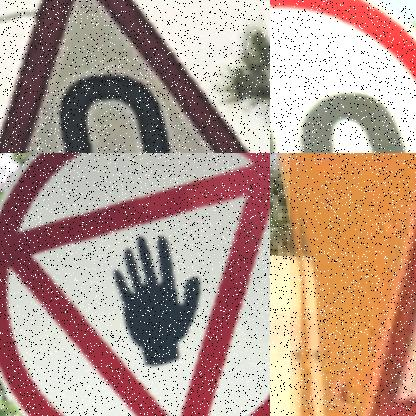Cross Roads: (289, 153, 416, 416)
Speed Limit (80 kmph): (270, 0, 416, 153)
Stop: (0, 153, 270, 416)
